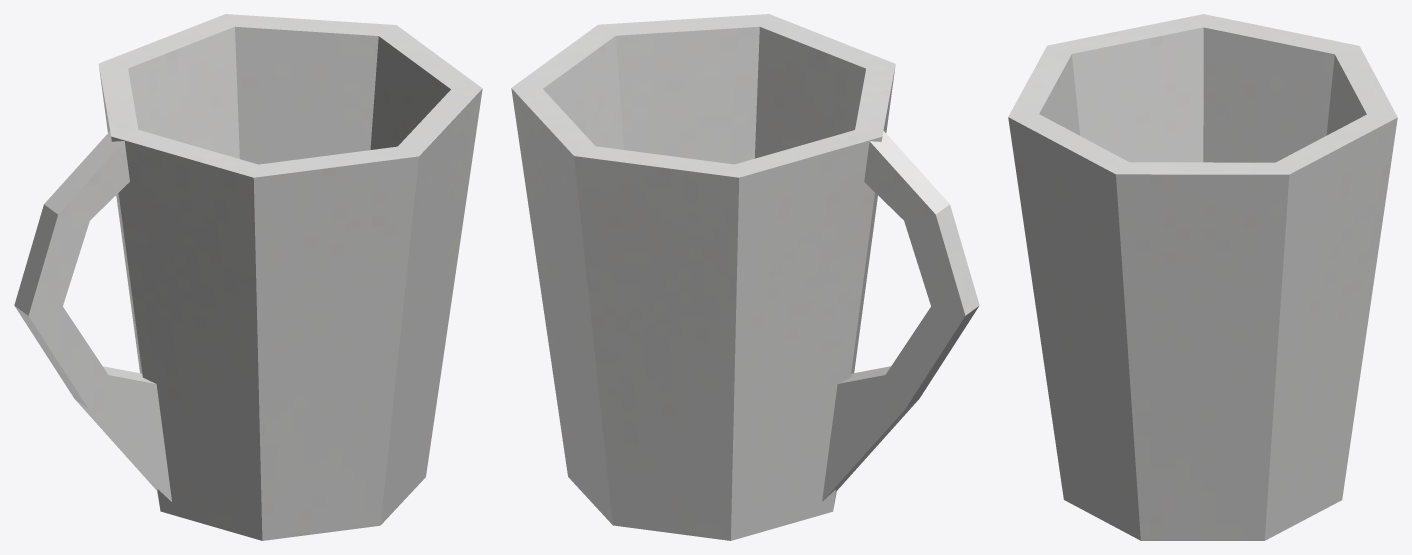
File: Cup02.obj
3 renders of one model, left to right at view 1: azimuth 30°, elevation 25°; view 2: azimuth 150°, elevation 25°; view 3: azimuth 270°, elevation 25°, orthographic.
Parts seen in each view (by area): view 1: Cup02; view 2: Cup02; view 3: Cup02.
Part boxes in pixels (left/top/right/bottom): Cup02: left=14, top=14, right=482, bottom=540; Cup02: left=511, top=14, right=979, bottom=540; Cup02: left=1008, top=14, right=1397, bottom=540.
Size of the model in its own units: 0.1272 by 0.1125 by 0.1024.
